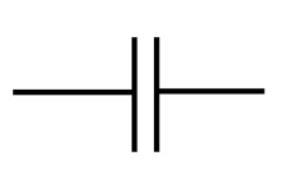Capacitor: (96, 29, 190, 158)
